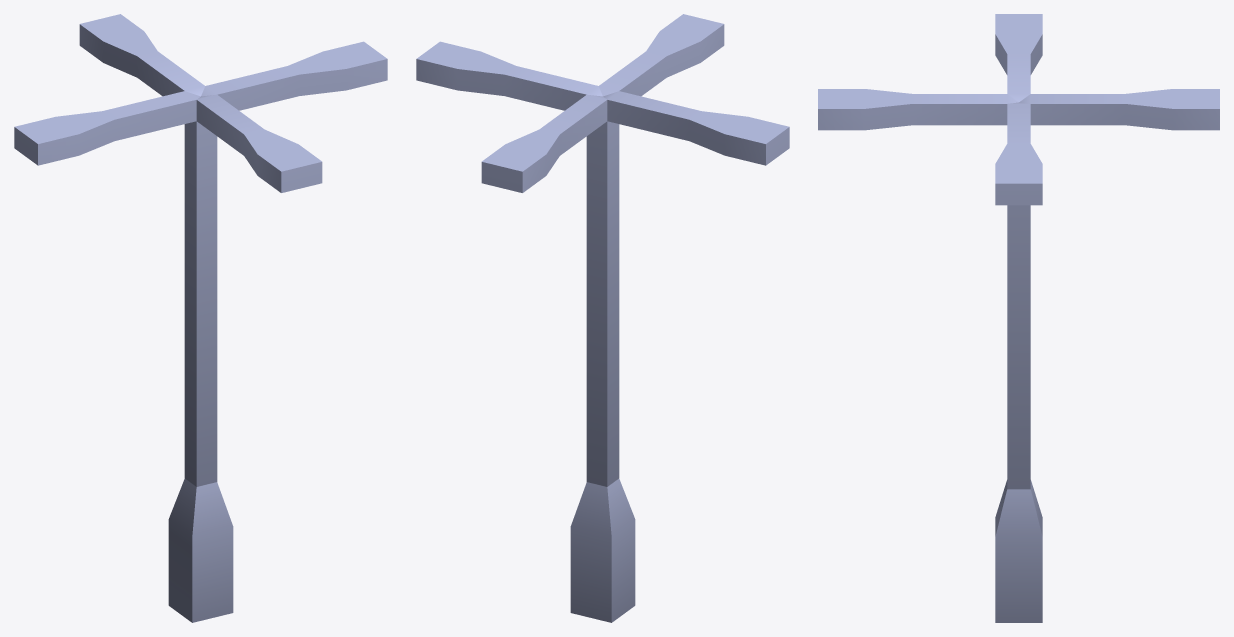
The model's file is light-square-cross.glb.
3 renders of one model, left to right at view 1: azimuth 30°, elevation 25°; view 2: azimuth 150°, elevation 25°; view 3: azimuth 270°, elevation 25°, orthographic.
Parts seen in each view (by area): view 1: light-square-cross; view 2: light-square-cross; view 3: light-square-cross.
Part boxes in pixels (<box>): light-square-cross: <box>14,14,387,622</box>; light-square-cross: <box>416,14,789,622</box>; light-square-cross: <box>818,14,1219,622</box>.
Bounding box in the file's own units: 0.425 × 0.6 × 0.425.
Materials: 1 (1 with a texture image).
